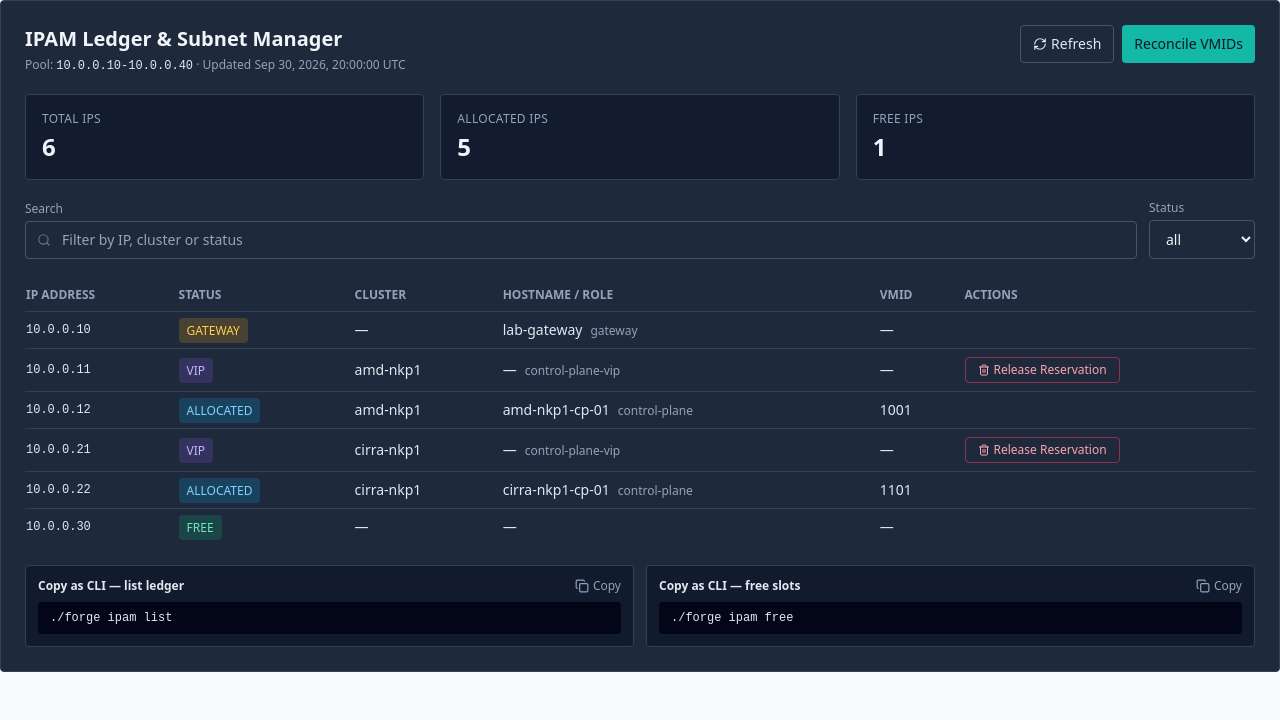
it: IpamPage › cancelling the release modal sends nothing
Expected: the row with test id "row-ipam-10.0.0.11" is shown, [25,348,1255,392]
Click the button with test id "btn-release-cirra-nkp1".
click(1042, 450)  # box [964,437,1120,463]
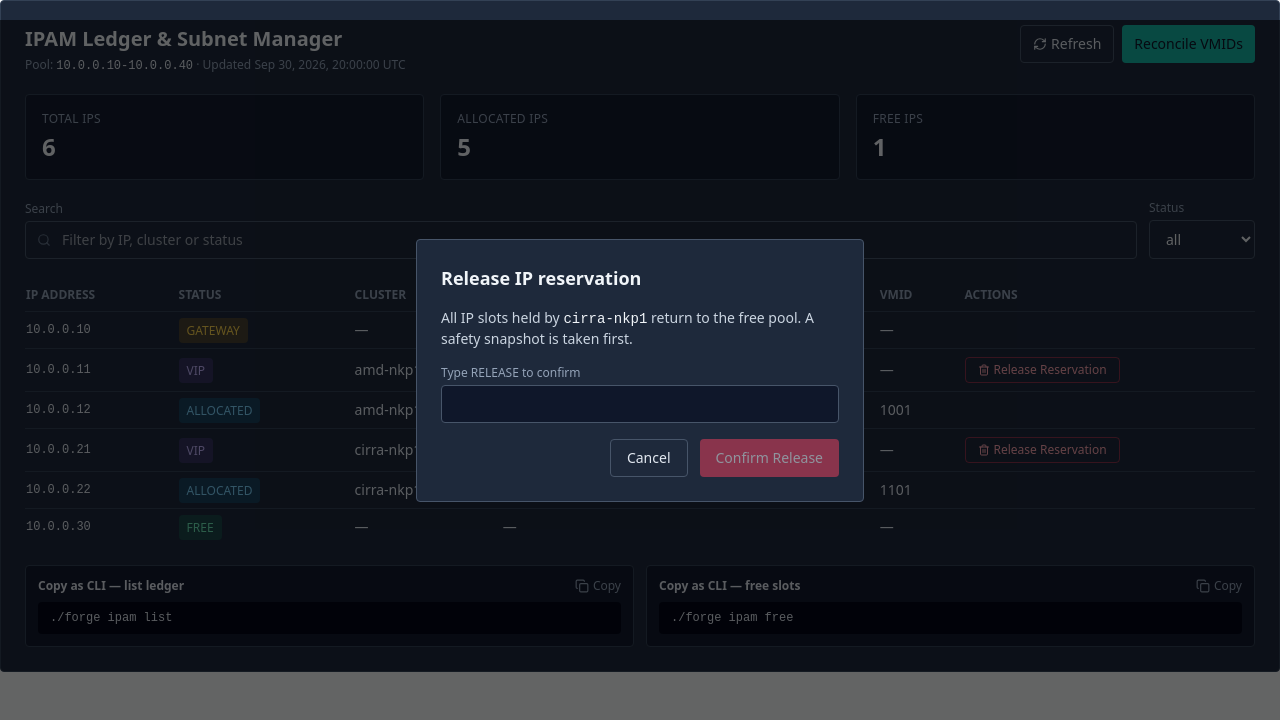
Click the button with test id "btn-close-release-modal".
click(649, 458)  # box [610,438,688,476]
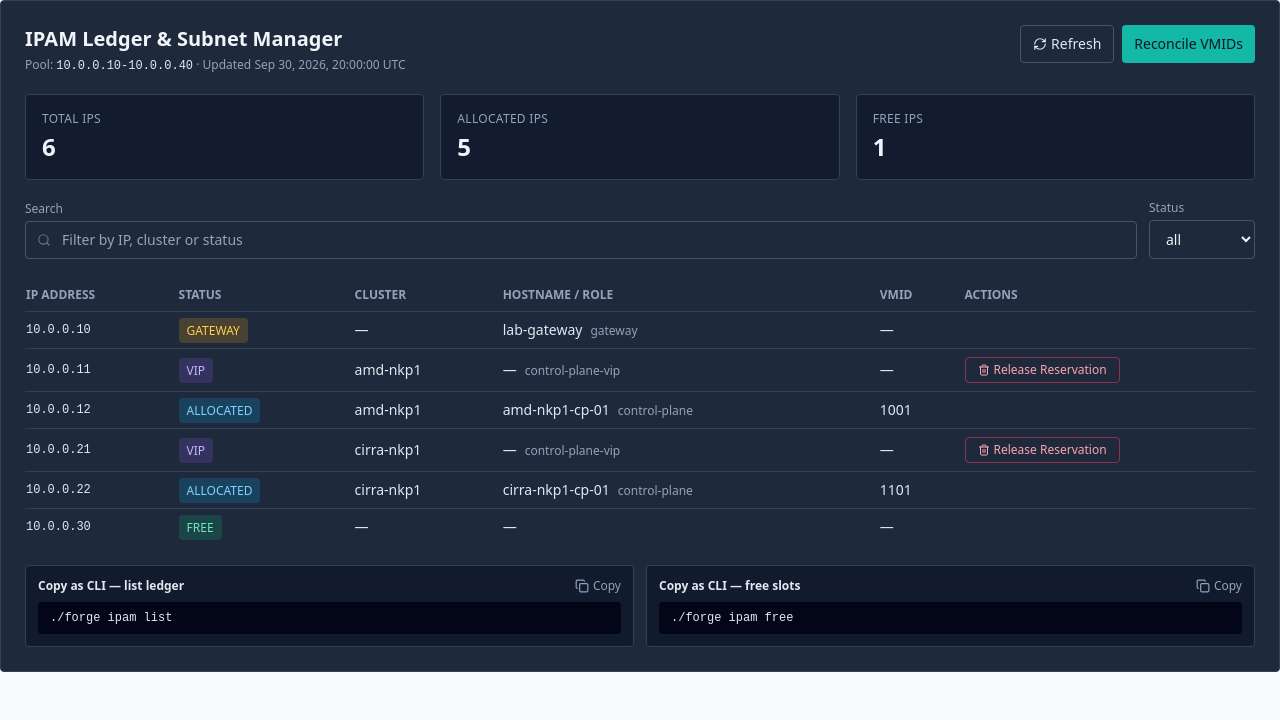
Expected: the element with test id "modal-confirm-release" is gone
